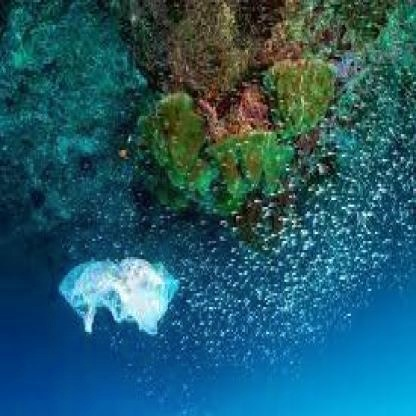pbag: (57, 257, 180, 339)
